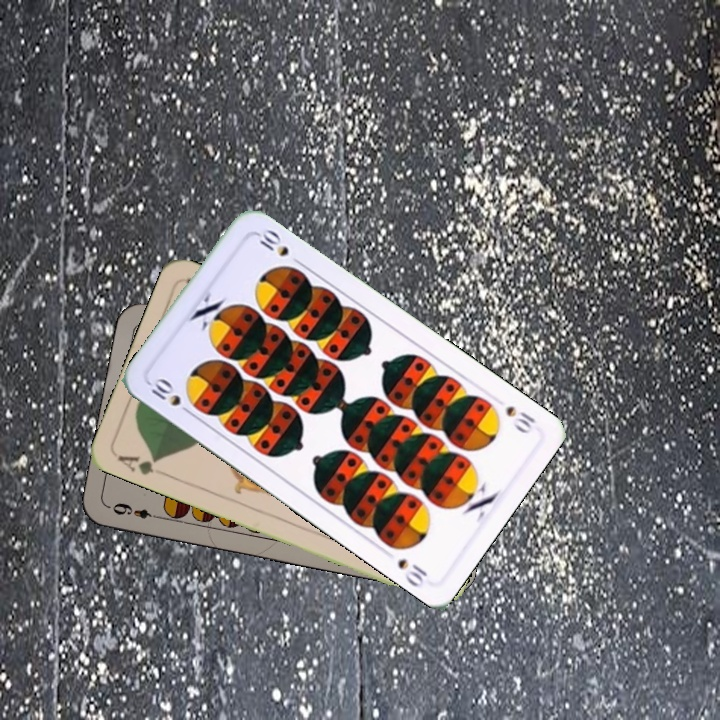E9: (108, 498, 164, 522)
GA: (113, 450, 162, 478)
S10: (147, 373, 196, 419), (501, 401, 538, 437)
